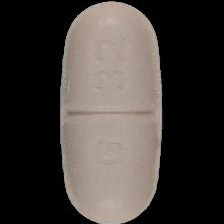35356-683: (0, 0, 224, 224)
